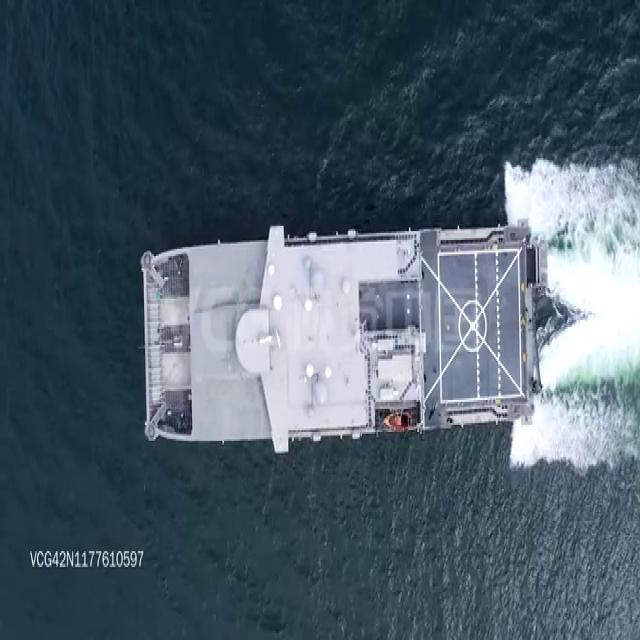navalvessels: (139, 213, 557, 448)
